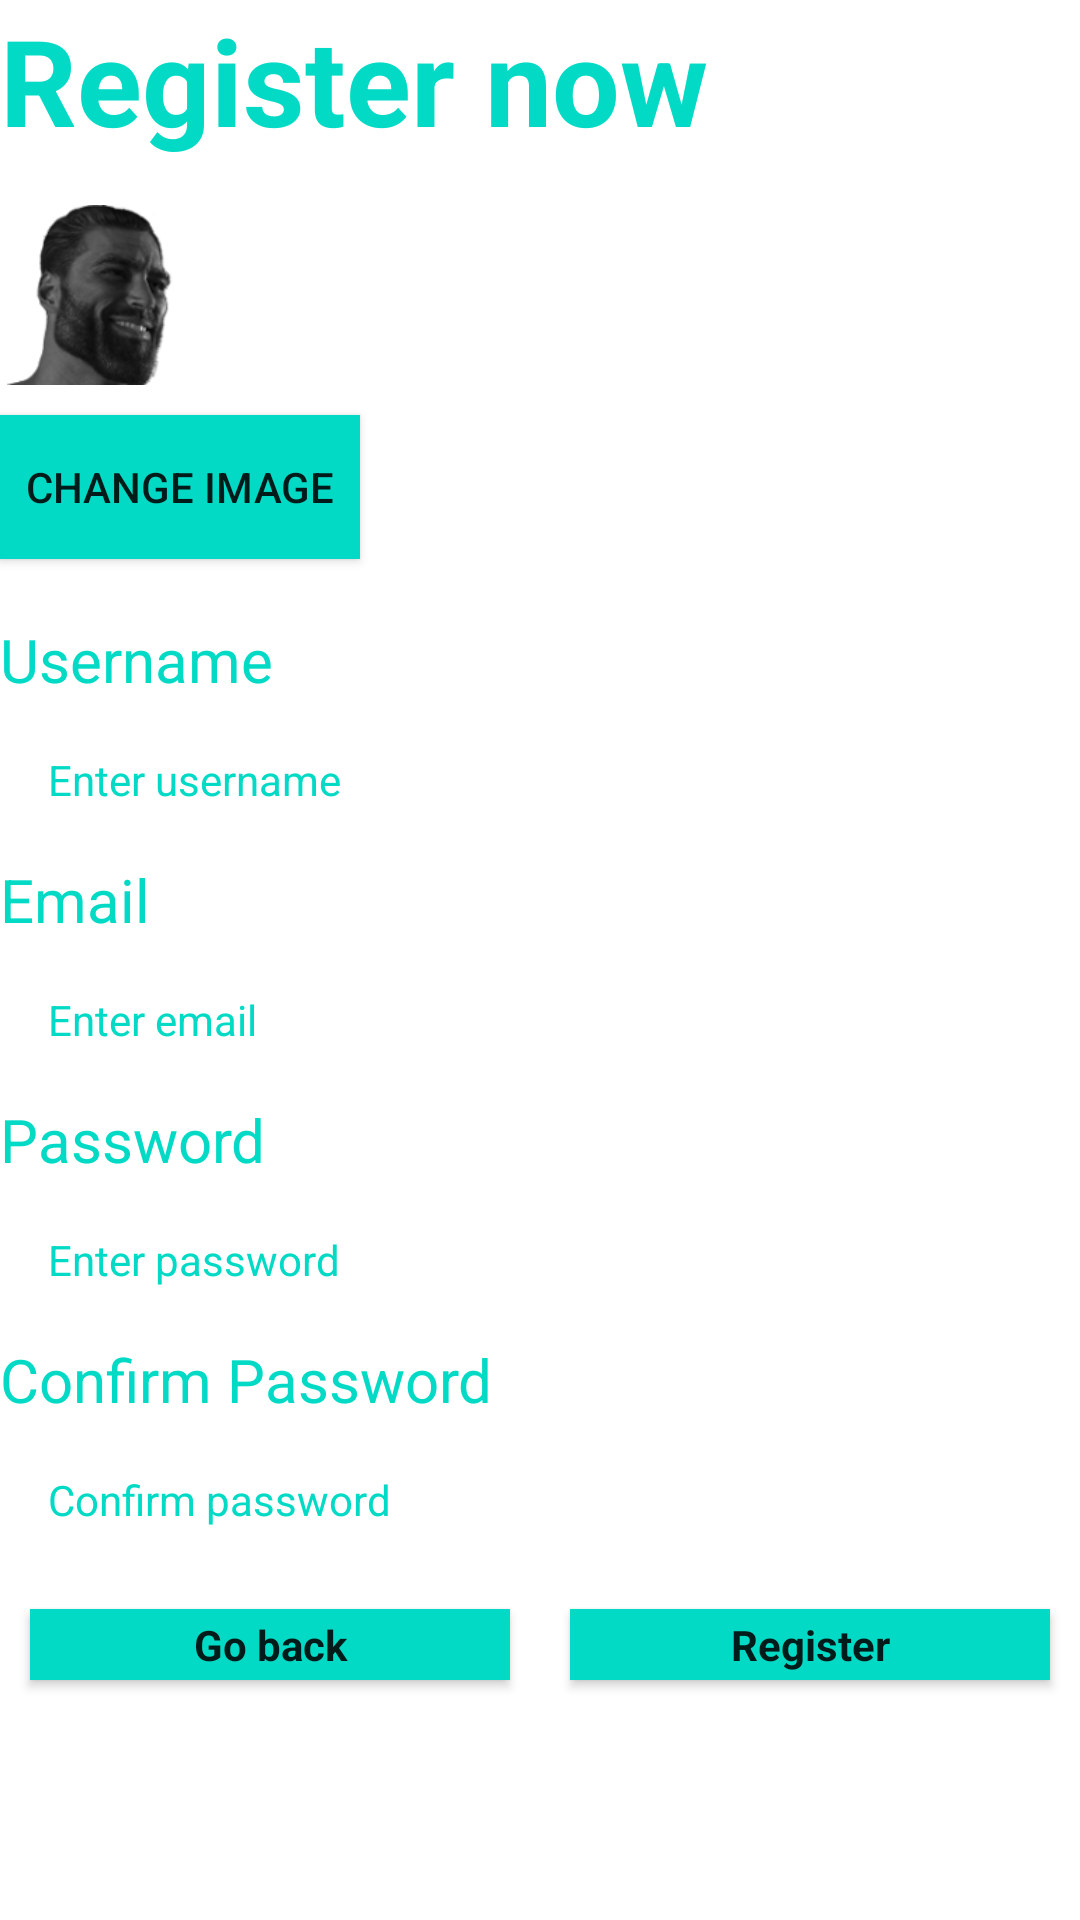

Icon click points for this 1080 × 1920 phone screenshot, format point (x, y):
Profile Picture: point (89, 295)
